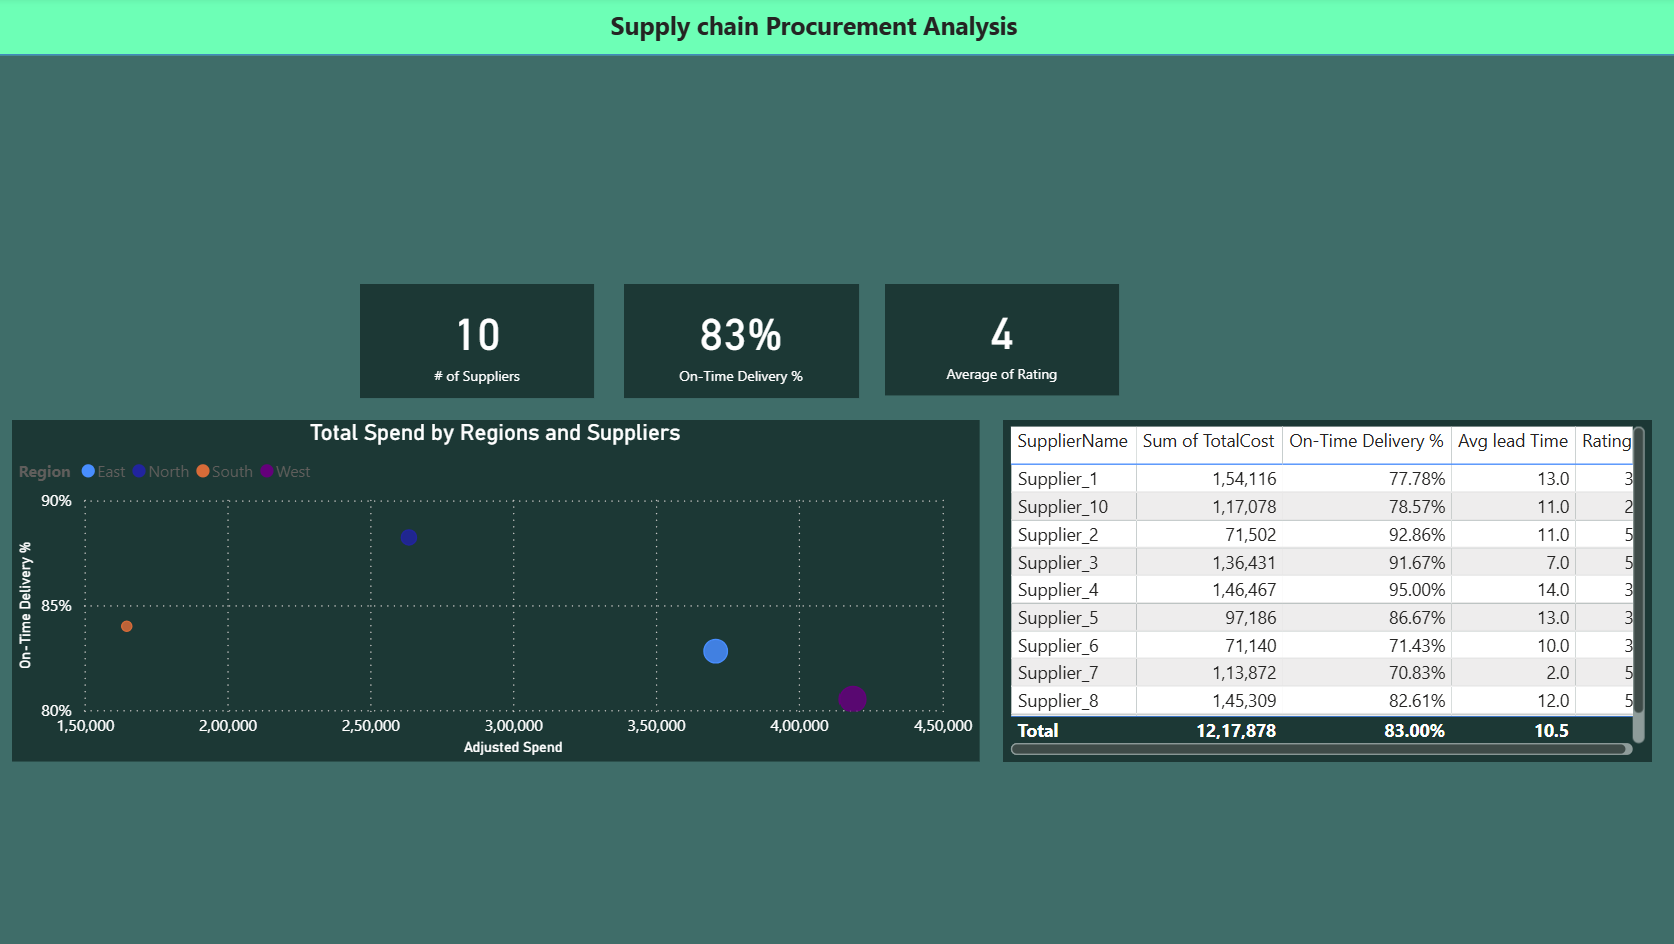

This screenshot's page, from the dashboard's own definition file:
{"tool":"powerbi","page":{"name":"Supplier Performance","canvas":[1280,720],"ordinal":1},"visuals":[{"type":"shape","box":[0,0,1280,45.1],"z":0},{"type":"tableEx","title":"Total Spend by Suppliers","fields":{"Values":["Suppliers.SupplierName","Sum(Purchases.TotalCost)","Measure.On-Time Delivery %","Measure.Avg lead Time","Suppliers.Rating"]},"box":[762,321.9,491.7,259],"z":1000},{"type":"scatterChart","title":"Total Spend by Regions and Suppliers","fields":{"Y":["Measure.On-Time Delivery %"],"Size":["Sum(Suppliers.Rating)"],"X":["Measure.Adjusted Spend"],"Series":["Suppliers.Region"]},"box":[10.3,321.9,732.9,259],"z":2000},{"type":"card","fields":{"Values":["Avg(Suppliers.Rating)"]},"box":[671.9,217.7,177.4,84.5],"z":3000},{"type":"card","fields":{"Values":["Measure.On-Time Delivery %"]},"box":[474.8,217.7,177.4,86.3],"z":4000},{"type":"card","fields":{"Values":["CountNonNull(Suppliers.SupplierID)"]},"box":[275,217.7,177.4,86.3],"z":5000},{"type":"textbox","box":[458.9,4.7,328.4,35.7],"z":6000}]}

Visuals, with their boxes in screenshot pixels (x1, y1, x2, y2), scaled from the page's 1280x720 canvas onto the 1674x944 screenshot:
shape: (0, 0, 1673, 59)
"Total Spend by Suppliers" tableEx: (997, 422, 1640, 762)
"Total Spend by Regions and Suppliers" scatterChart: (13, 422, 972, 762)
card - Avg(Suppliers.Rating): (879, 285, 1111, 396)
card - Measure.On-Time Delivery %: (621, 285, 853, 399)
card - CountNonNull(Suppliers.SupplierID): (360, 285, 592, 399)
textbox: (600, 6, 1030, 53)
